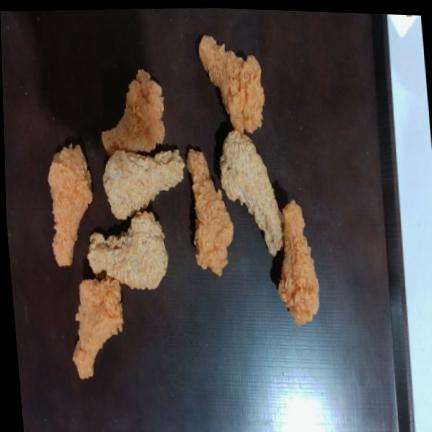chicken: (221, 130, 283, 256), (199, 36, 265, 133), (88, 212, 168, 289), (187, 149, 233, 276), (103, 150, 184, 219), (102, 70, 165, 157), (48, 145, 92, 266), (73, 277, 123, 378), (279, 199, 319, 325)
